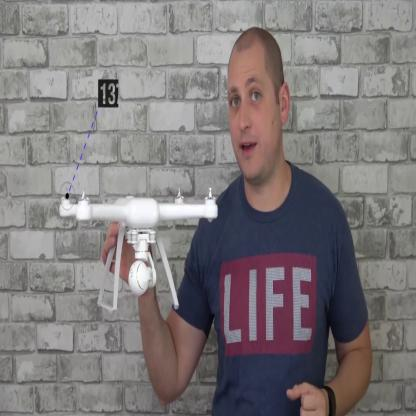drone: (56, 184, 226, 242)
